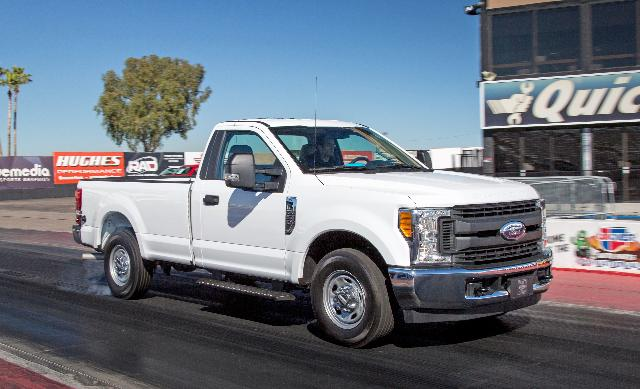pickup-truck: (71, 118, 555, 349)
